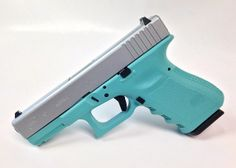gun: (9, 10, 224, 154)
